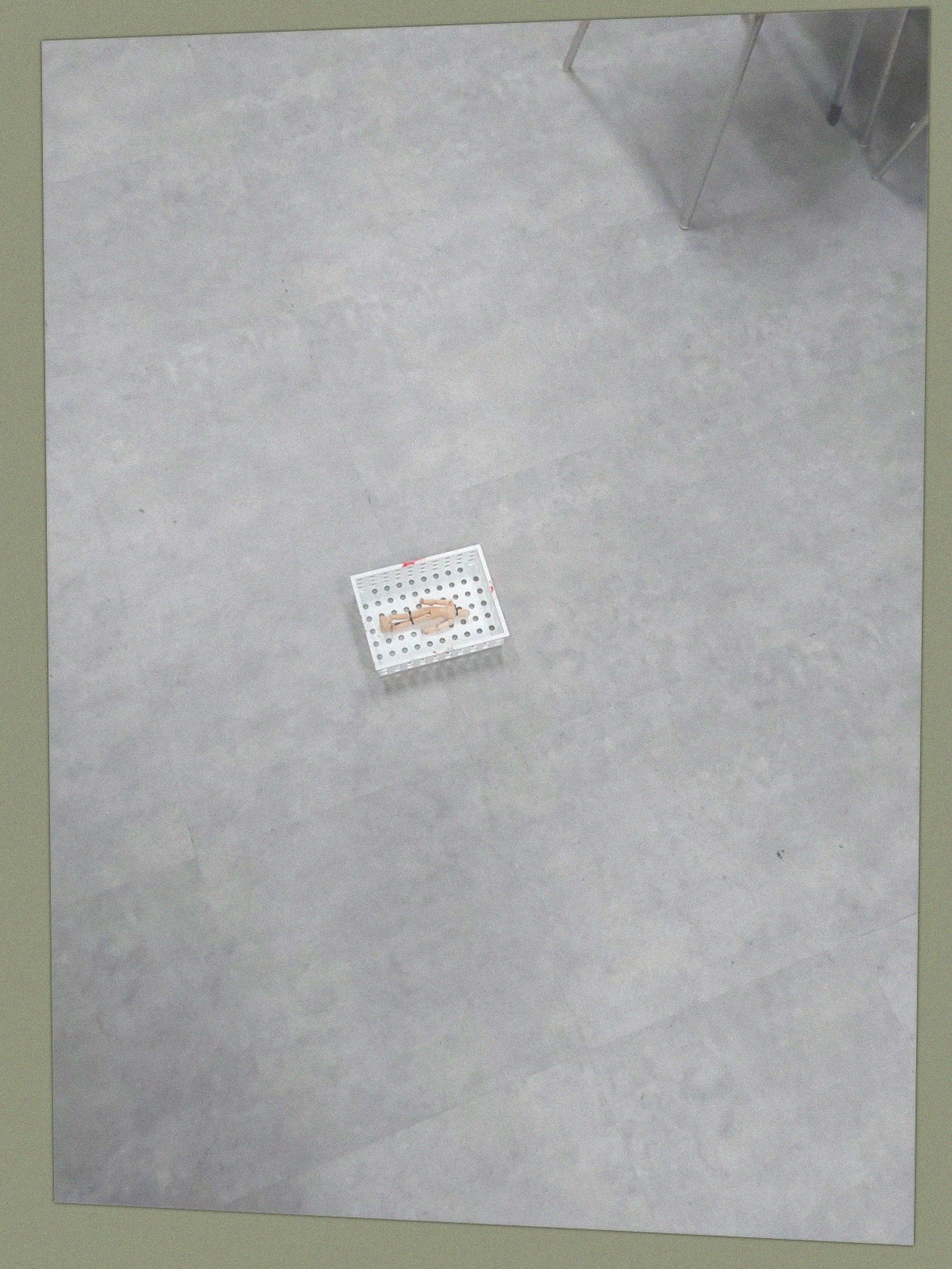basket: (347, 540, 512, 681)
mannequin: (378, 597, 472, 637)
